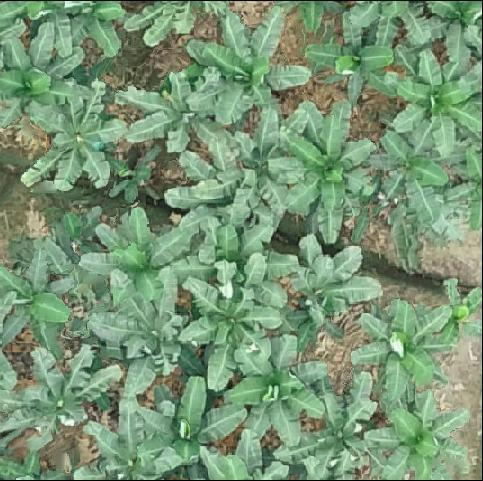Banana-plant: (171, 109, 306, 222), (174, 254, 283, 390), (2, 345, 120, 460), (185, 9, 306, 119), (286, 103, 376, 245), (281, 234, 383, 354), (95, 273, 193, 393), (142, 373, 246, 481), (229, 335, 328, 445), (25, 83, 127, 189), (388, 52, 483, 150), (83, 209, 192, 292), (366, 394, 469, 481), (358, 303, 451, 397), (303, 11, 393, 101), (298, 371, 373, 479), (2, 21, 89, 114), (0, 249, 75, 355), (80, 388, 165, 481), (123, 73, 220, 151), (375, 133, 447, 219), (423, 0, 483, 65), (442, 277, 483, 346)
